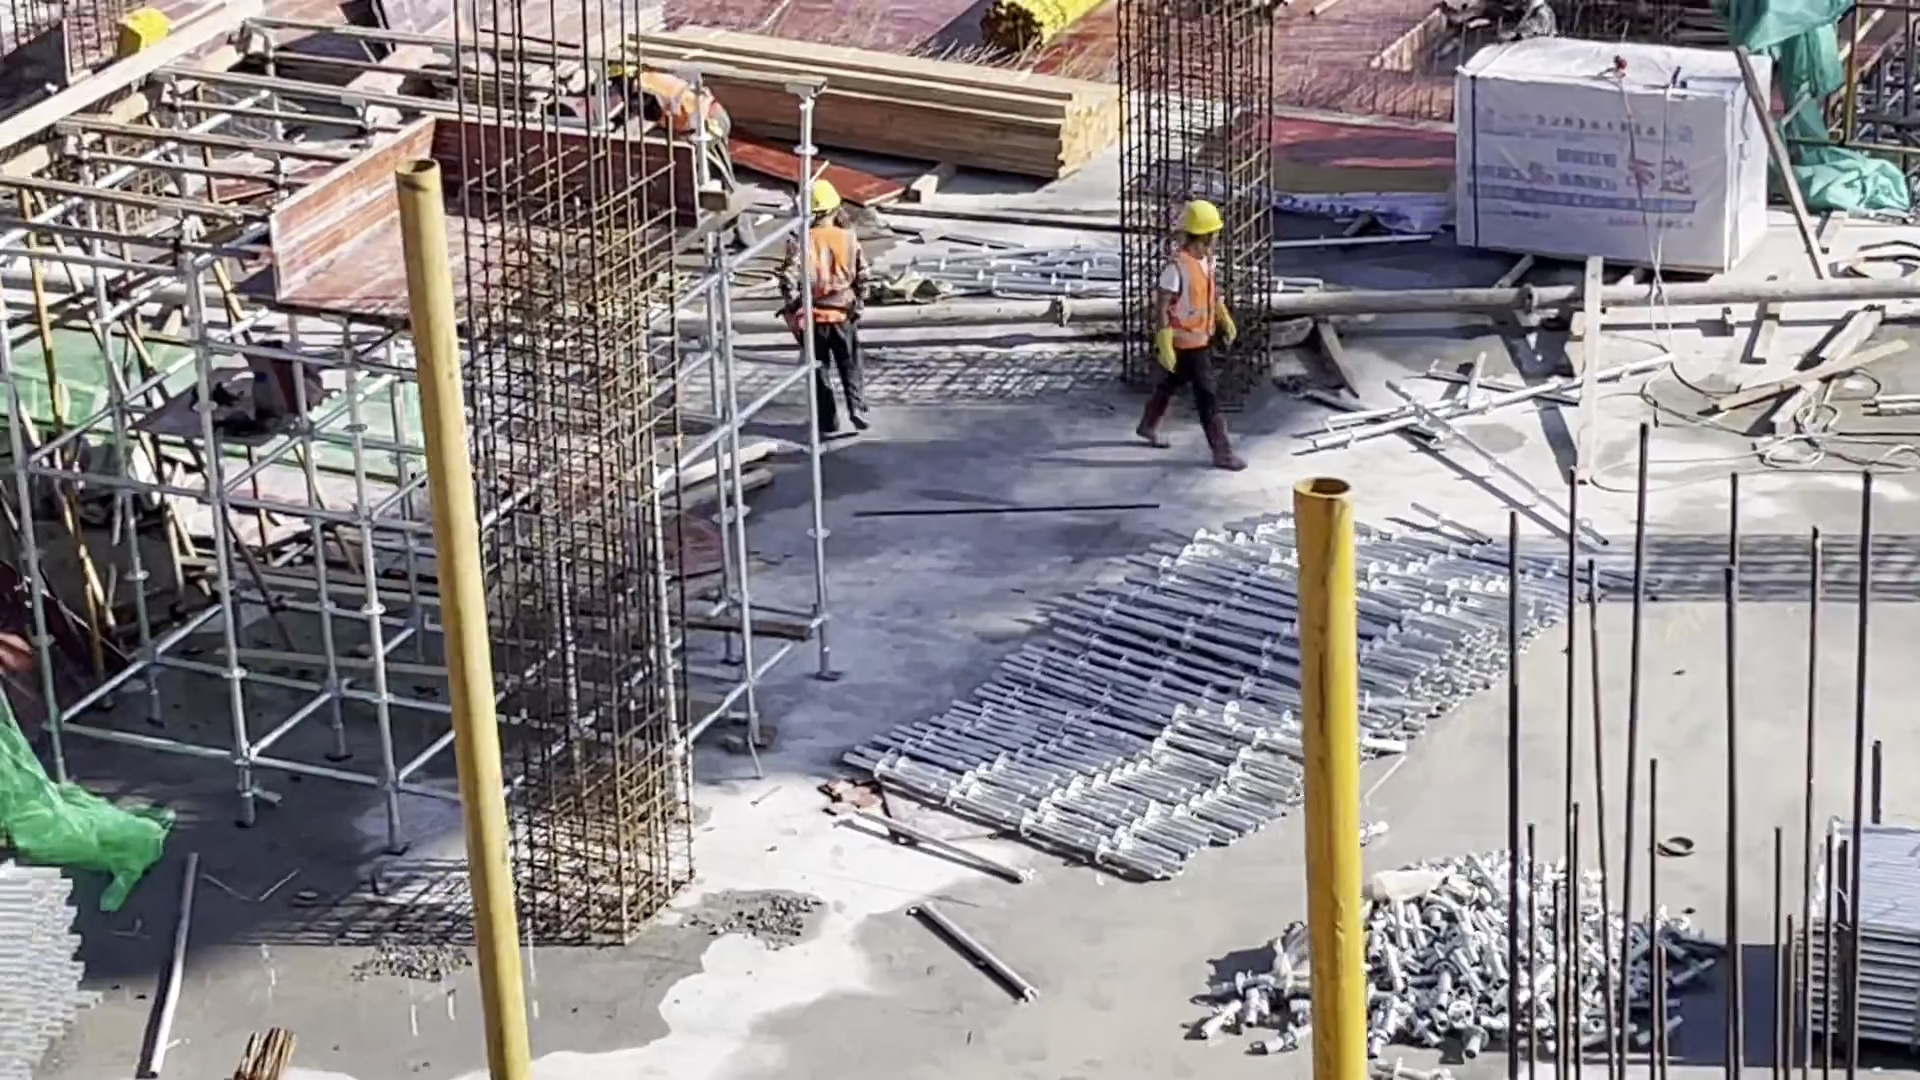ebox: (112, 6, 170, 65)
helmet: (1170, 200, 1224, 240), (795, 176, 843, 215)
person: (1136, 192, 1240, 469), (783, 174, 878, 450), (612, 57, 734, 160)
scaffold: (813, 447, 1577, 813), (1193, 831, 1702, 1072), (1790, 825, 1920, 1080), (1, 849, 112, 1076)
vest: (791, 218, 865, 333), (1157, 257, 1221, 371)
wood: (612, 16, 1134, 174)
